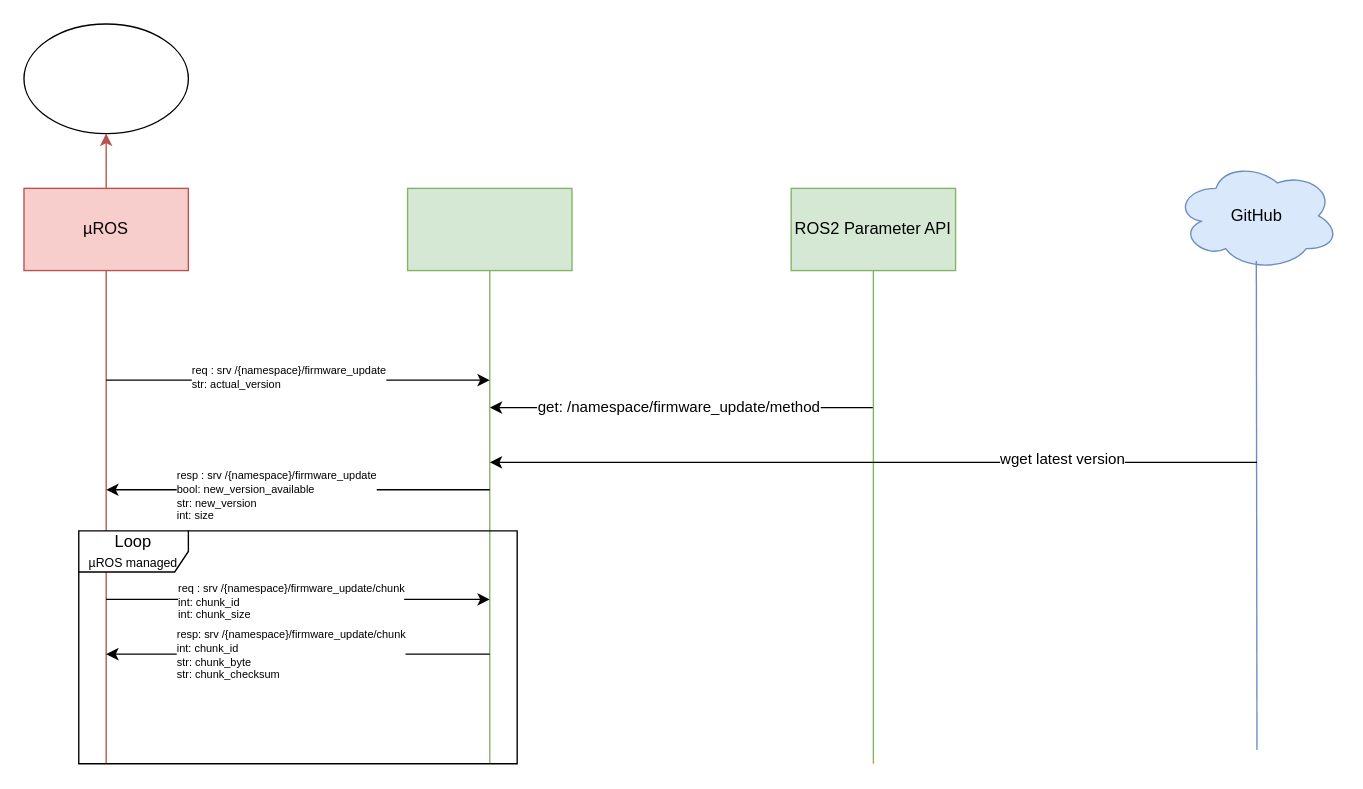
The diagram is 1363 pixels wide and 789 high, and some of its shapes have lost their labels. Here are the shapes that lost their labels. From the top down, the box of each, then its label:
(23, 23, 188, 134): topic : /{namespace}/version type : str
(406, 187, 572, 271): ROS2 Node Firmware Updater
